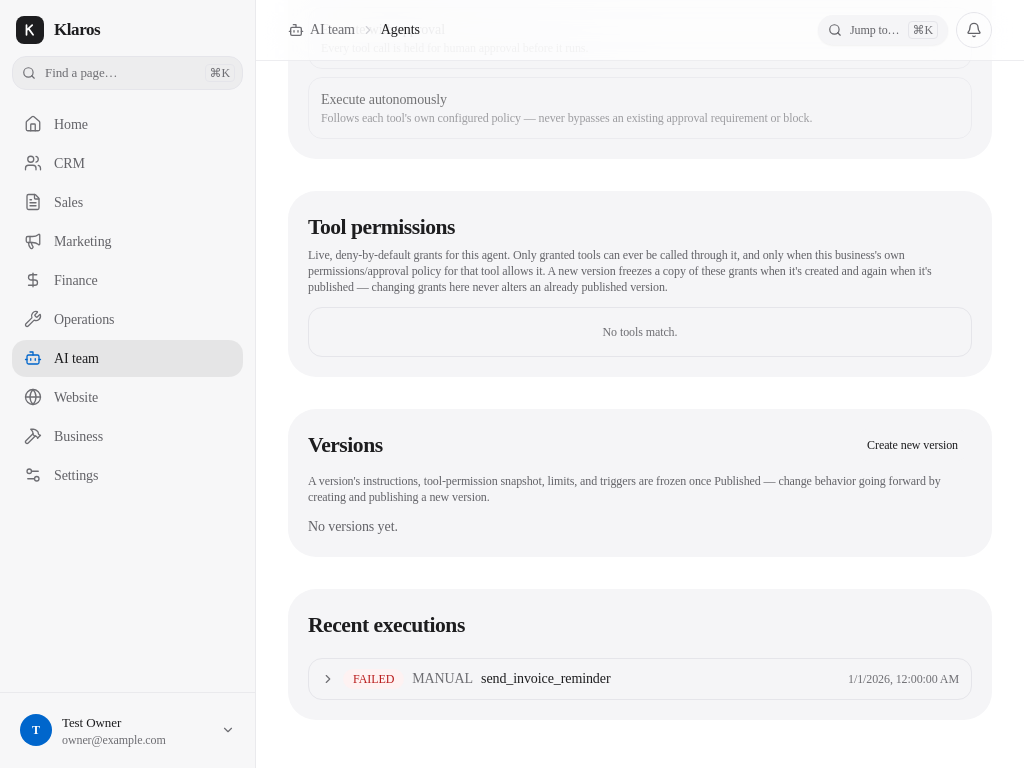
Agent detail / configuration page › shows FAILED executions with the backend's sanitized error message
(page scrolled)
Click the text "send_invoice_reminder" at {"x": 546, "y": 679}, box [481,669,610,689]
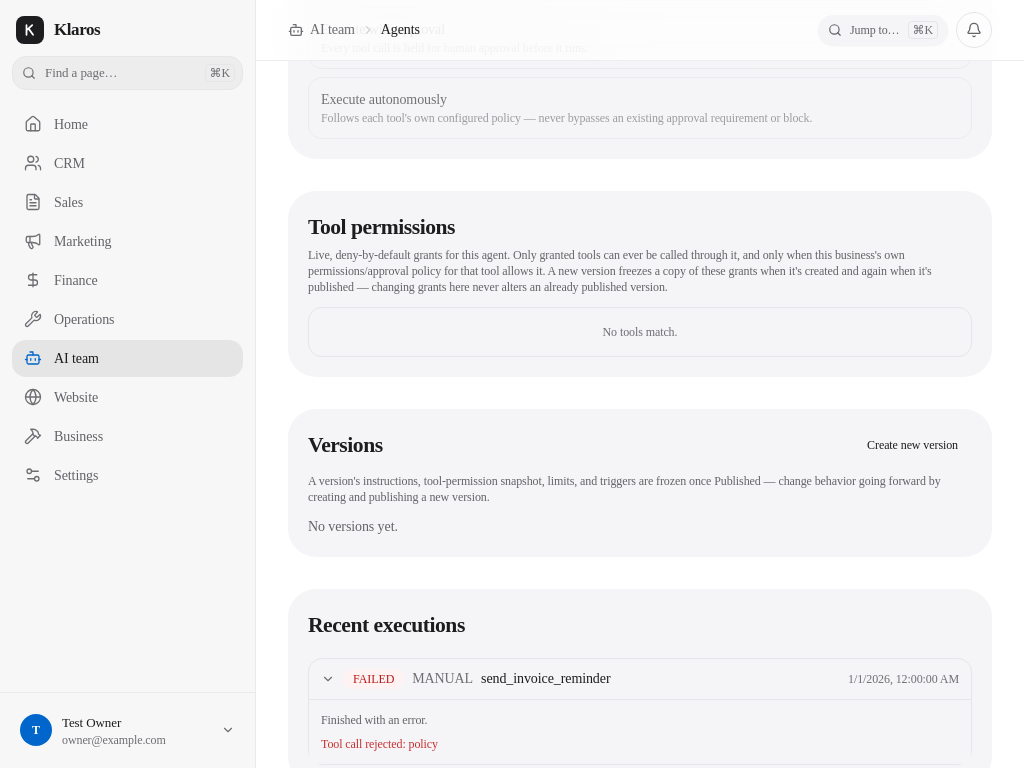
Check: the text "Tool call rejected: policy" is shown, box [321,737,438,751]
